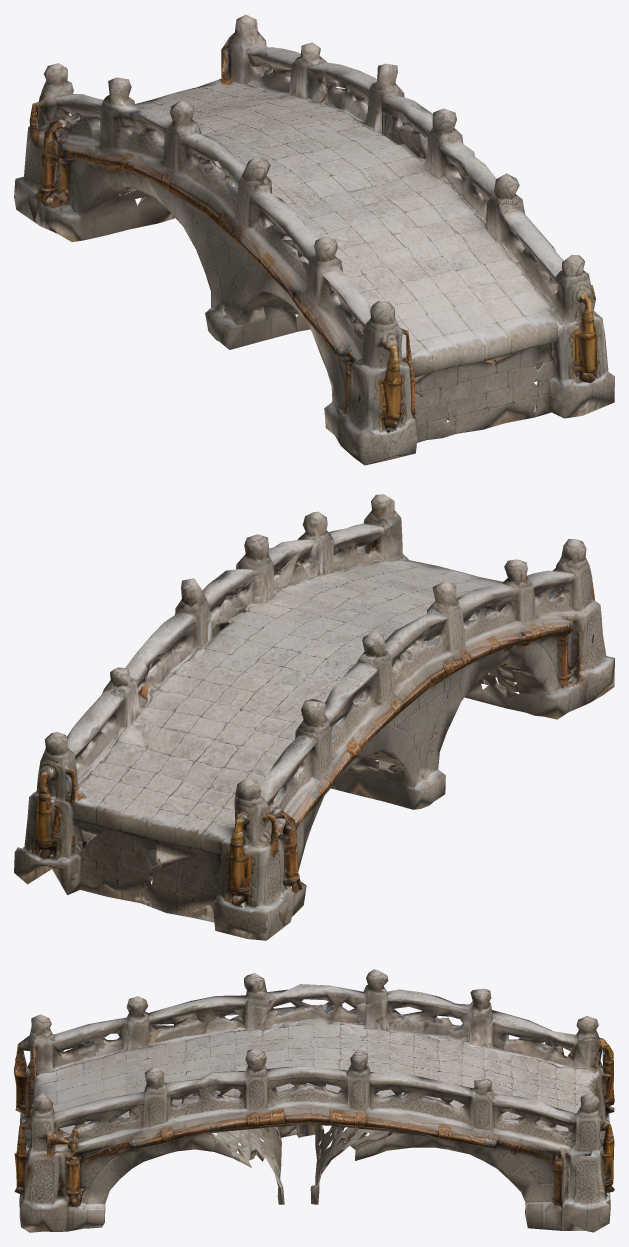
The model's file is PR_Yeongjegyo.fbx.
3 renders of one model, top to bottom at view 1: azimuth 30°, elevation 25°; view 2: azimuth 150°, elevation 25°; view 3: azimuth 270°, elevation 25°, orthographic. The views are drawn at different scales.
Parts seen in each view (by area): view 1: texture_mapping; view 2: texture_mapping; view 3: texture_mapping.
Part boxes in pixels (box(x1,y1,x2,y2)): texture_mapping: box(14, 14, 614, 465); texture_mapping: box(14, 494, 614, 940); texture_mapping: box(14, 969, 614, 1232).
Bounding box in the file's own units: 0.4175 × 0.9969 × 0.3179.
Materials: 1 (1 with a texture image).
